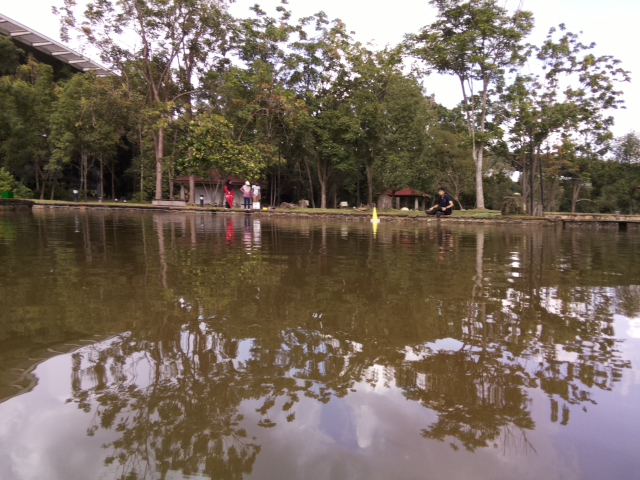checkpoint: (369, 205, 381, 223)
